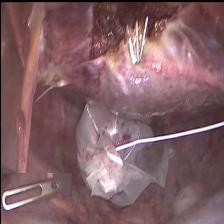Grasper: (0, 172, 71, 212)
Specimen Bag: (72, 91, 174, 210)
